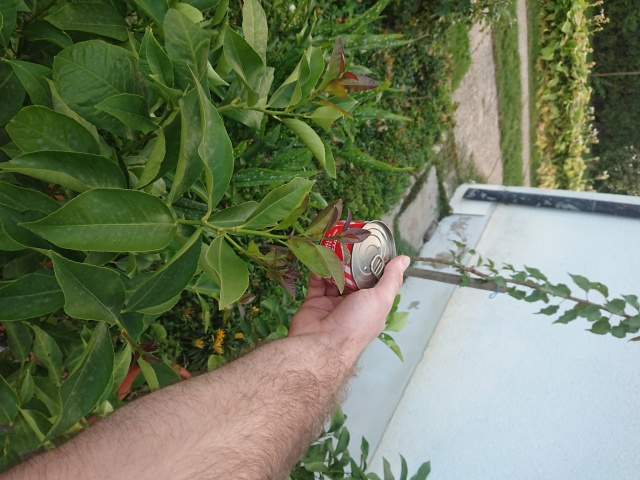Podravka Luncheon Meat 150g: (314, 218, 398, 294)
